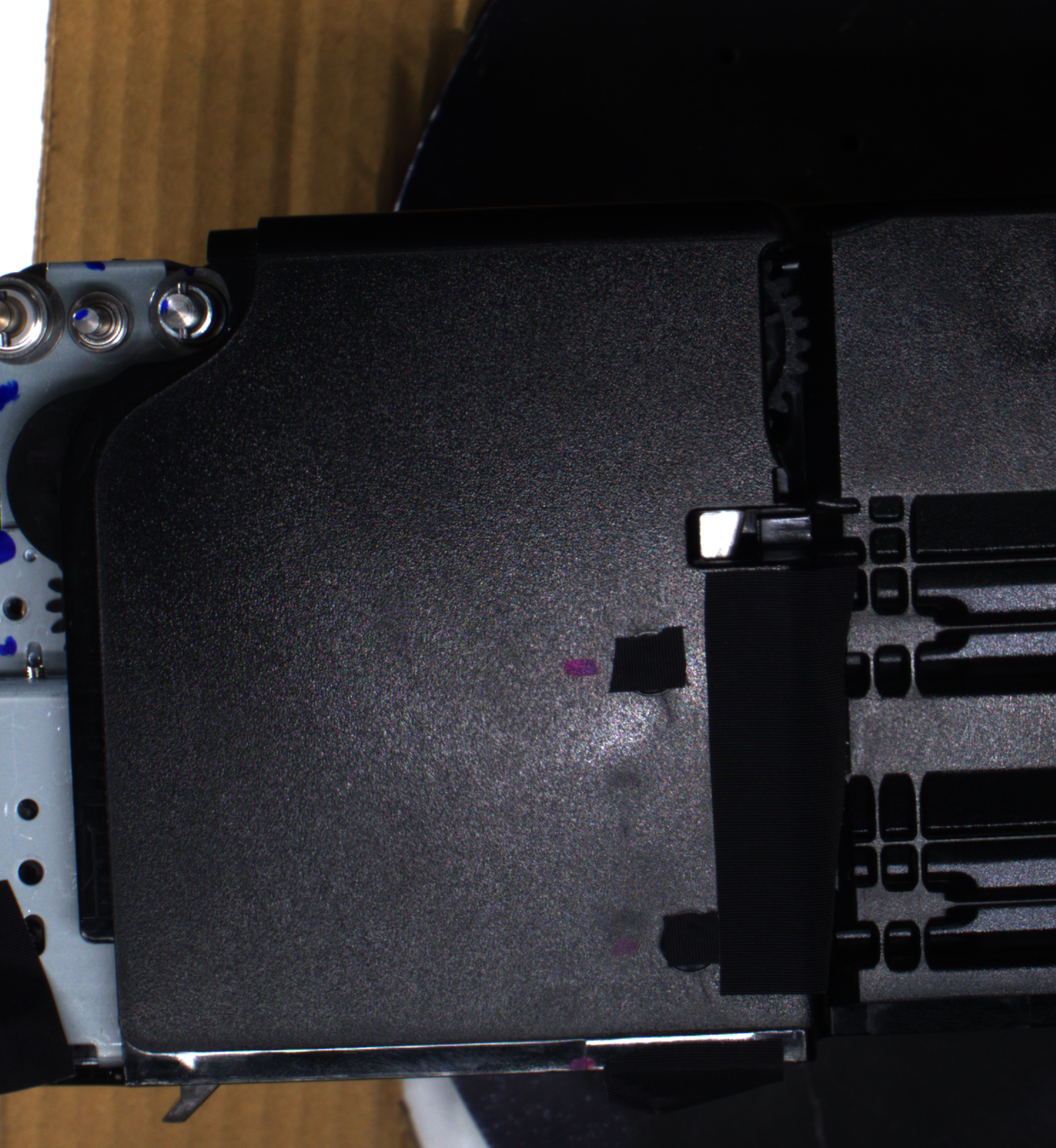gear1_absence: (0, 273, 66, 368)
gear2_absence: (61, 285, 137, 356)
gear3_absence: (144, 269, 232, 357)
side_screw_absence: (11, 853, 50, 892), (0, 591, 33, 628)
